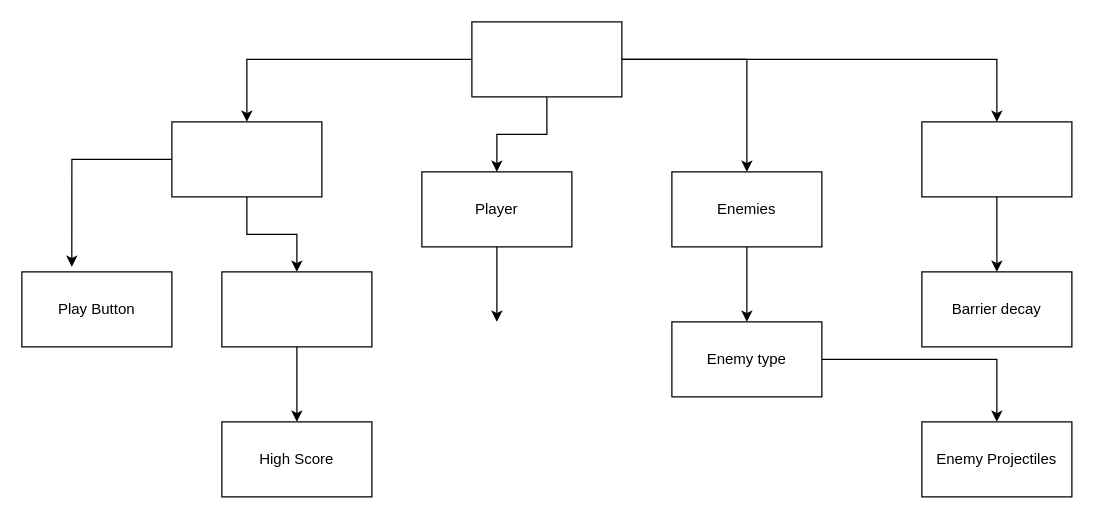
This 1094x519 diagram has some shape labels left out. Each missing label, with the centre of its shape:
Alien Invaders: the point at 546,59
Barrier: the point at 996,159
Game Menu: the point at 246,159
Score: the point at 296,309
